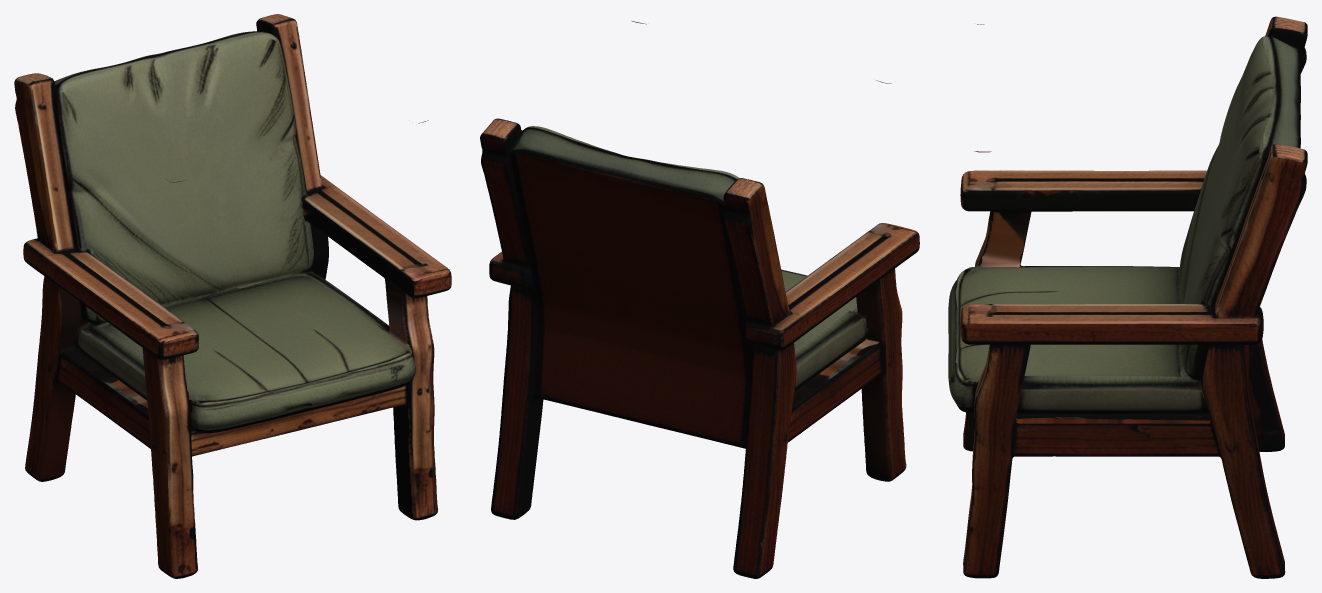
The model's file is world-furniture-3.glb.
The picture shows the model from 3 angles, left to right: view 1: azimuth 30°, elevation 25°; view 2: azimuth 150°, elevation 25°; view 3: azimuth 270°, elevation 25°; orthographic projection. The views are drawn at different scales.
Parts seen in each view (by area): view 1: tmpn1a0ozoz.ply; view 2: tmpn1a0ozoz.ply; view 3: tmpn1a0ozoz.ply.
Part boxes in pixels (left/top/right/bottom): tmpn1a0ozoz.ply: left=14, top=14, right=451, bottom=578; tmpn1a0ozoz.ply: left=480, top=20, right=919, bottom=578; tmpn1a0ozoz.ply: left=948, top=16, right=1307, bottom=578.
Bounding box in the file's own units: 1.53 × 1.97 × 1.5.
1 material, 1 textured.
